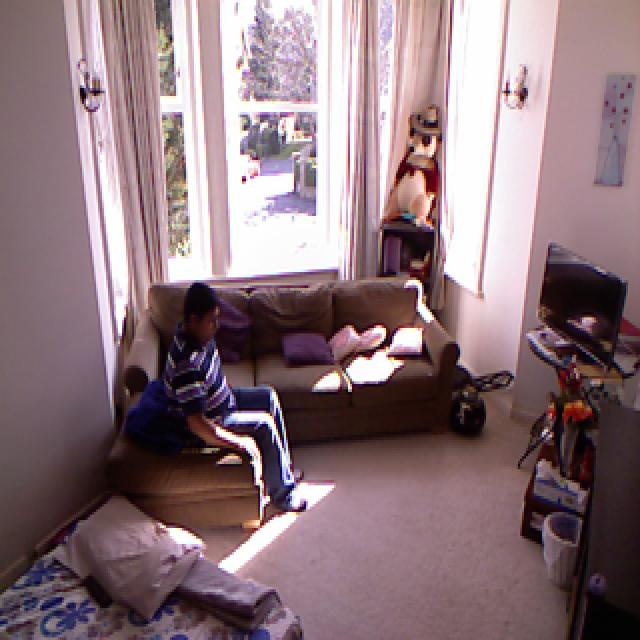sitting: (159, 283, 315, 519)
